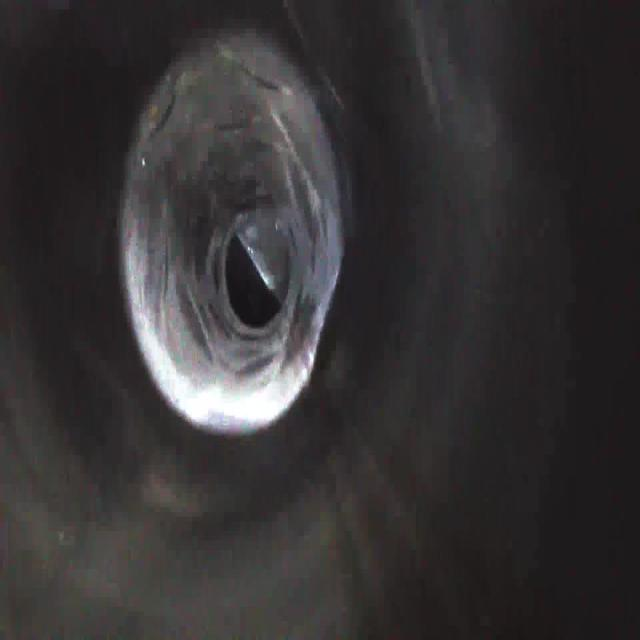crack: (211, 55, 325, 146), (148, 264, 217, 373), (294, 170, 334, 275), (140, 70, 186, 154), (224, 347, 285, 410)
